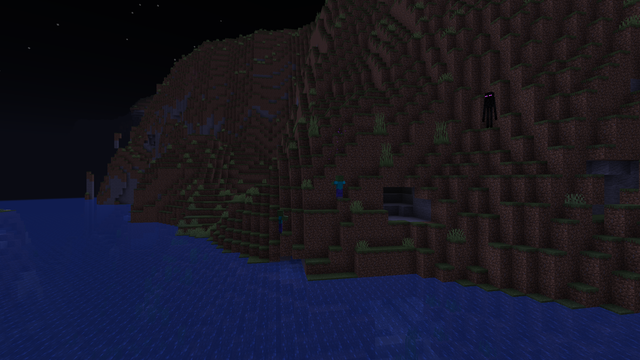endermens: (483, 90, 495, 127)
zombies: (335, 176, 343, 199), (276, 210, 283, 233)
